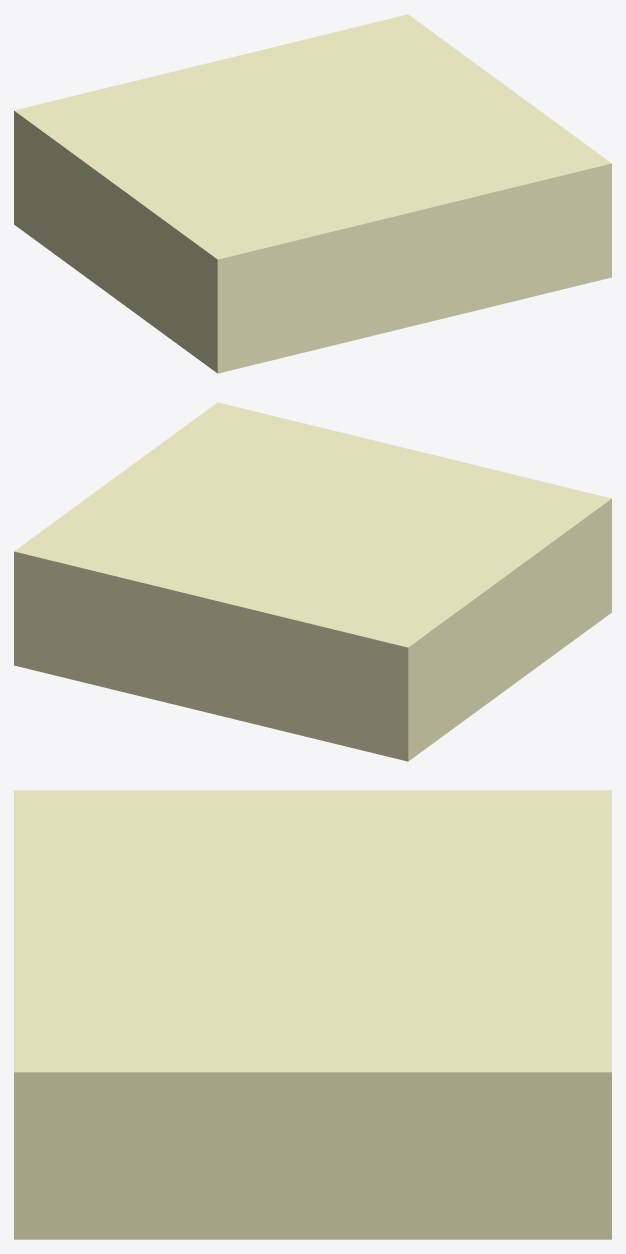
Rendered from collider tembok 1.fbx.
3 renders of one model, top to bottom at view 1: azimuth 30°, elevation 25°; view 2: azimuth 150°, elevation 25°; view 3: azimuth 270°, elevation 25°, orthographic. The views are drawn at different scales.
Parts seen in each view (by area): view 1: tembok; view 2: tembok; view 3: tembok.
Part boxes in pixels (box(x1,y1,x2,y2)): tembok: box(14, 14, 611, 373); tembok: box(14, 402, 611, 761); tembok: box(14, 790, 611, 1239).
Size of the model in its own units: 3772 by 1042 by 3377.
